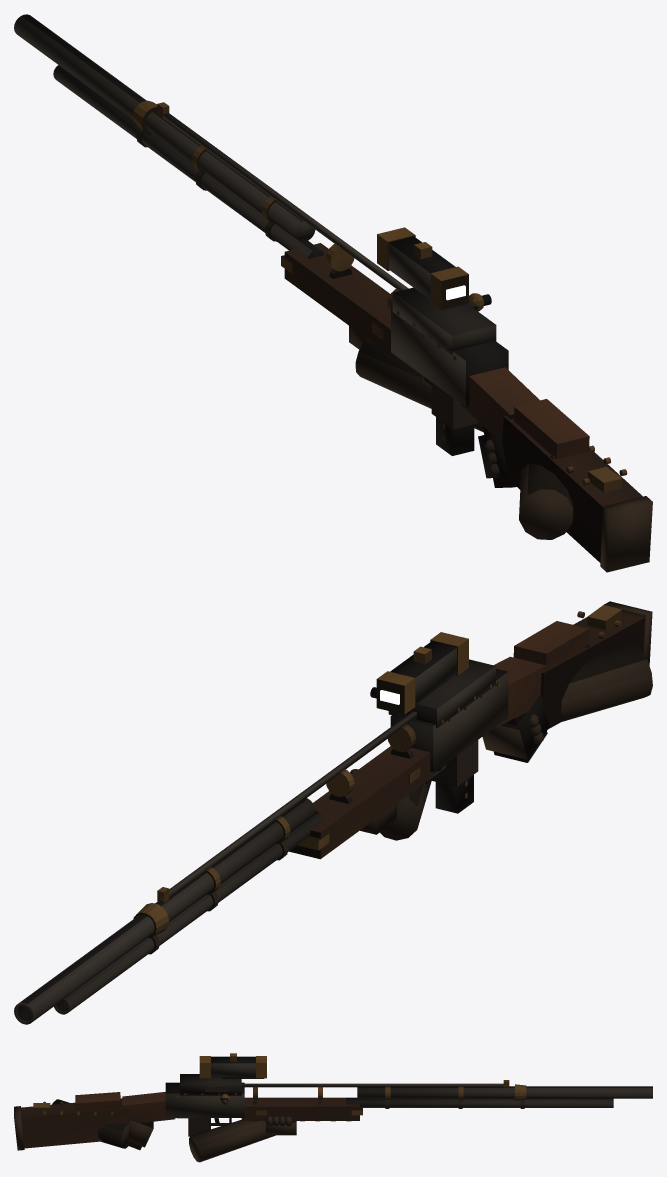
Rendered from weapon.glb.
3 views of the same model, one above another, from view 1: azimuth 30°, elevation 25°; view 2: azimuth 150°, elevation 25°; view 3: azimuth 270°, elevation 25° (orthographic). The views are drawn at different scales.
Visible parts, largest first — view 1: weapon; view 2: weapon; view 3: weapon.
Part boxes in pixels (x1,y1,x2,y2): weapon: [14, 14, 652, 572]; weapon: [14, 601, 652, 1024]; weapon: [14, 1053, 652, 1162].
Bounding box in the file's own units: 0.2981 × 0.3683 × 2.27.
